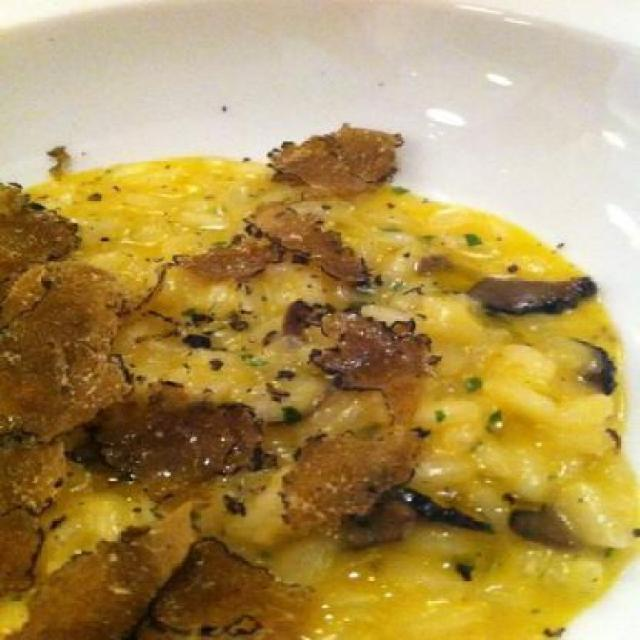Risotto: (18, 150, 608, 639)
